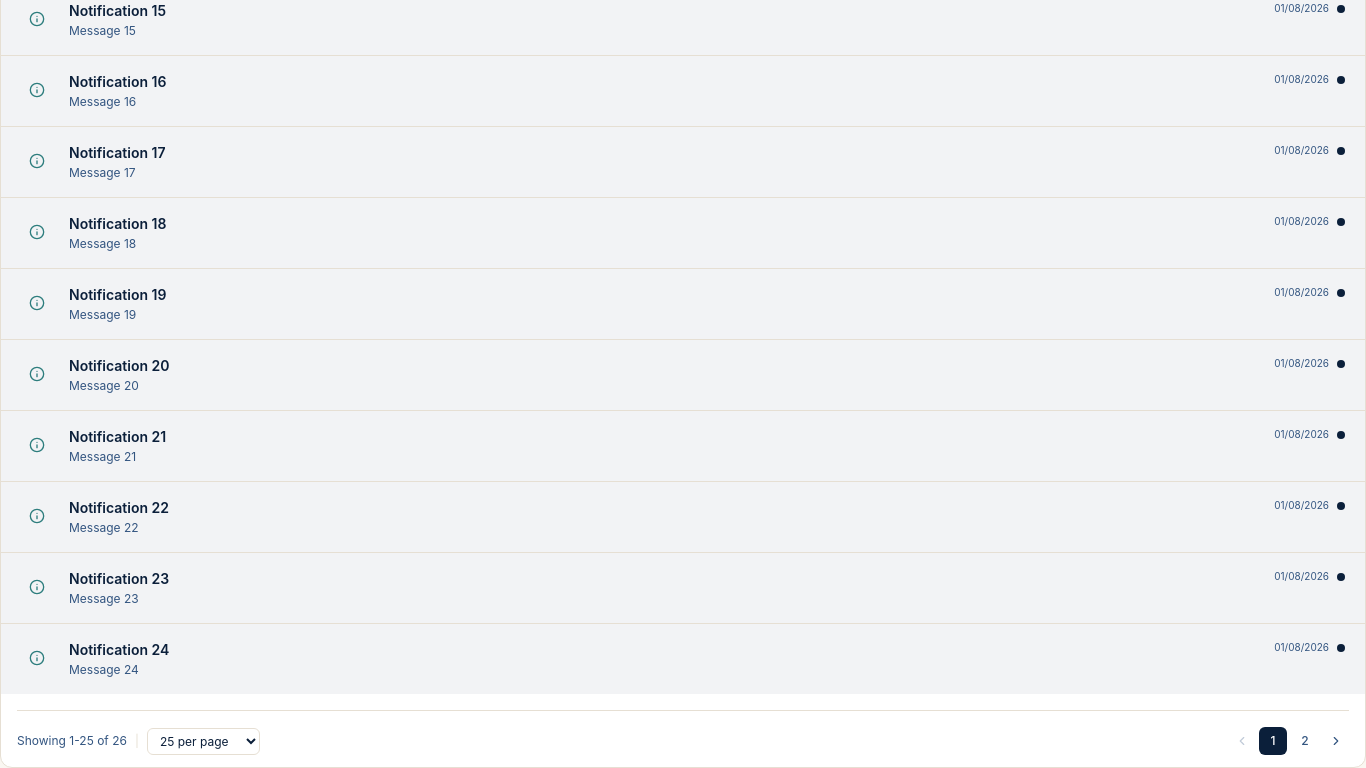
it: NotificationsPage pagination › offers a next page when the first page comes back full
(page scrolled)
What coordinates should you click on to do the following:
click the button "2"
I would click on:
 (1305, 741)
Its box is [1291,727,1319,755].
(page scrolled)
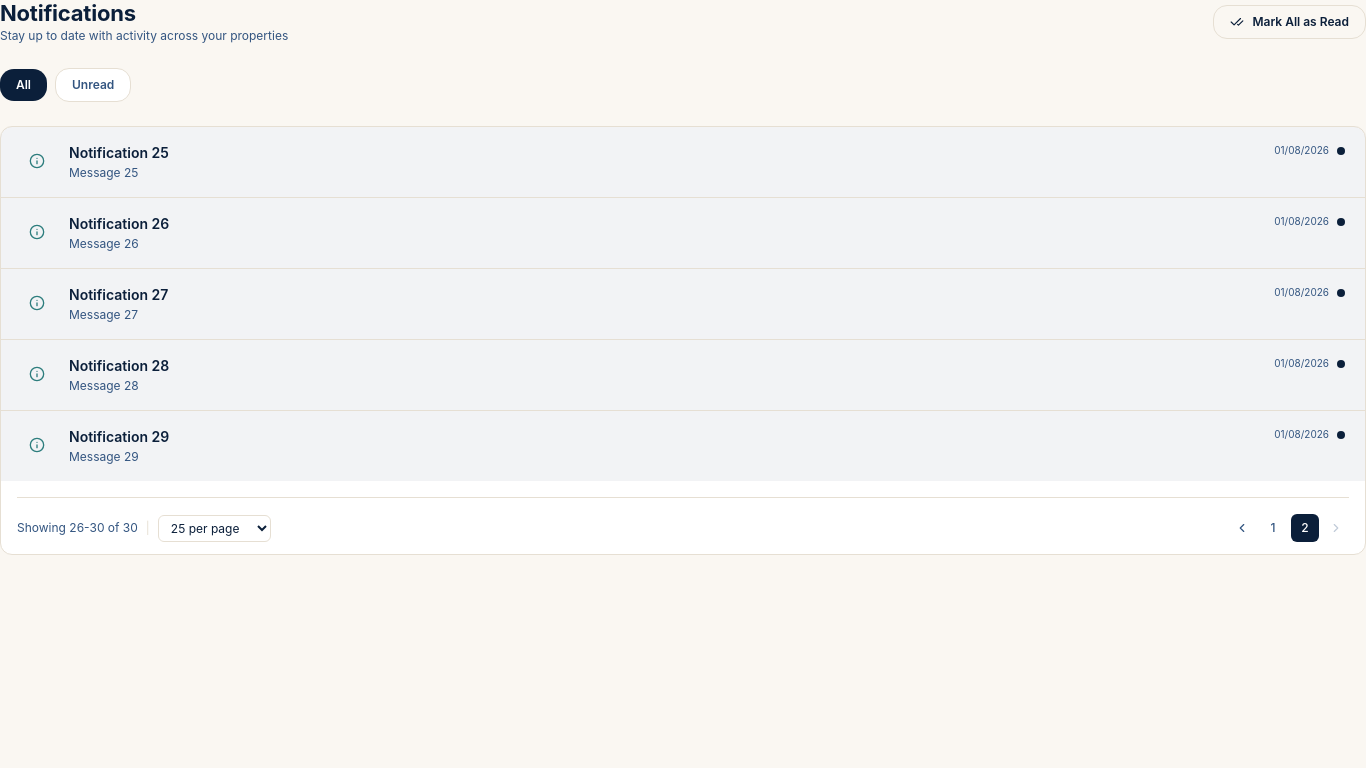
Check: the text "Notification 25" is shown, box [69,143,169,163]
Check: the text "Showing 26-30 of 30" is shown, box [17,520,138,536]
